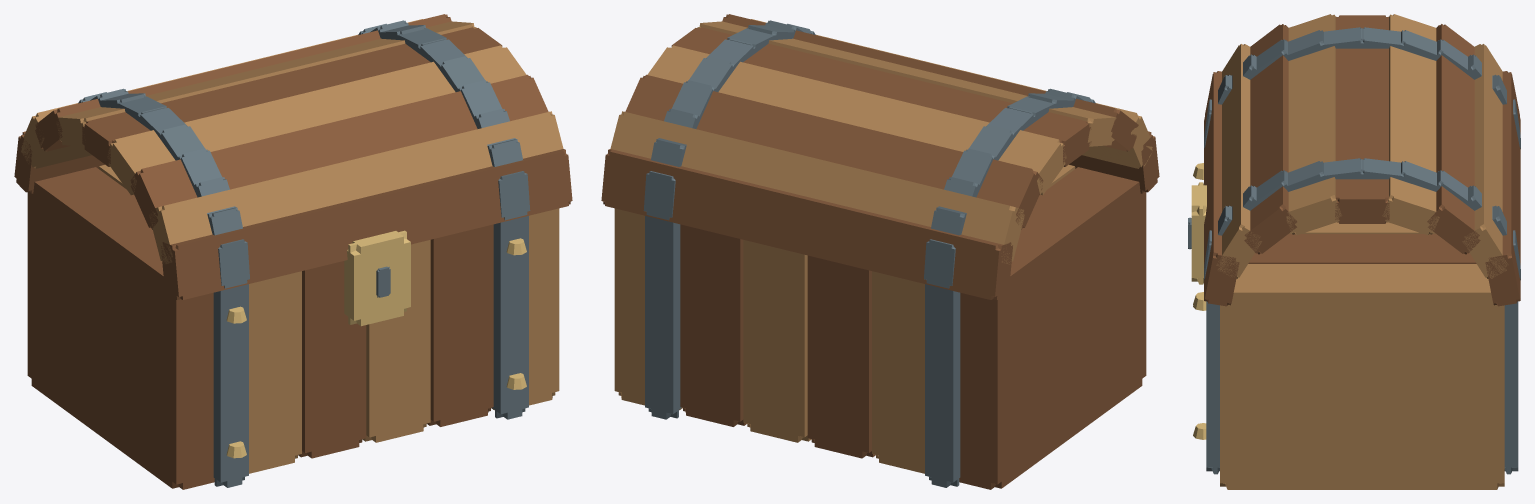
File: Chest.fbx
The picture shows the model from 3 angles, left to right: view 1: azimuth 30°, elevation 25°; view 2: azimuth 150°, elevation 25°; view 3: azimuth 270°, elevation 25°; orthographic projection. The views are drawn at different scales.
Parts seen in each view (by area): view 1: Chest.002; view 2: Chest.002; view 3: Chest.002.
Part boxes in pixels (x1=…): Chest.002: x1=14, y1=14, x2=572, y2=489; Chest.002: x1=601, y1=14, x2=1159, y2=489; Chest.002: x1=1188, y1=14, x2=1520, y2=489.
Size of the model in its own units: 104 by 79.95 by 79.51.
